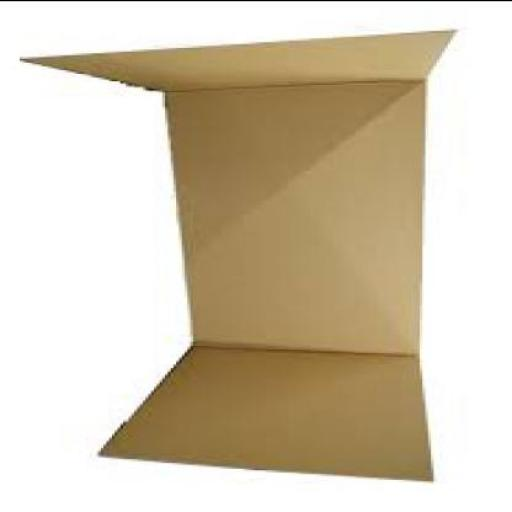cardboard: (22, 32, 462, 482)
